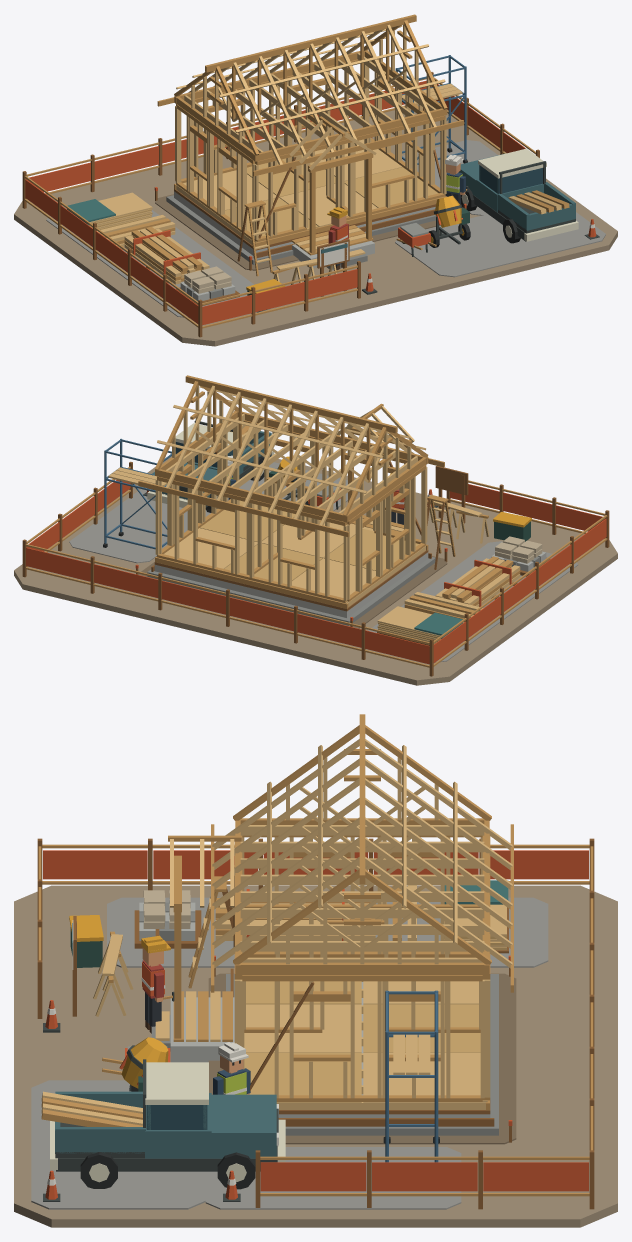
Rendered from house_construction_site.glb.
The picture shows the model from 3 angles, top to bottom: view 1: azimuth 30°, elevation 25°; view 2: azimuth 150°, elevation 25°; view 3: azimuth 270°, elevation 25°; orthographic projection. The views are drawn at different scales.
Parts seen in each view (by area): view 1: LotPad, SitePerimeter, Stage4_UpperFrameAndGables, Stage2_FloorDeck, Truck_Body, Stage5b_TrussesRight, Wall_Front, Wall_Left, Stage5a_TrussesLeft, Wall_InteriorAndPorch, Stage1_Foundation, Pile_LumberStack (+15 smaller); view 2: LotPad, SitePerimeter, Stage4_UpperFrameAndGables, Stage2_FloorDeck, Wall_Back, Stage5b_TrussesRight, Wall_Left, Stage1_Foundation, Stage5a_TrussesLeft, Wall_Right, Pile_LumberStack, Scaffold (+9 smaller); view 3: LotPad, SitePerimeter, Stage4_UpperFrameAndGables, Stage2_FloorDeck, Truck_Body, Stage5b_TrussesRight, Stage5a_TrussesLeft, Wall_Right, Stage1_Foundation, Wall_InteriorAndPorch, Scaffold, SiteProps (+12 smaller).
Boxes of the visible parts, x1,y1,x2,y2 form: LotPad: (14,104,617,346); SitePerimeter: (22,72,599,337); Stage4_UpperFrameAndGables: (174,14,447,161); Stage2_FloorDeck: (174,139,446,257); Truck_Body: (459,148,578,243); Stage5b_TrussesRight: (157,24,463,176); Wall_Front: (254,115,446,241); Wall_Left: (175,104,254,239); Stage5a_TrussesLeft: (188,43,358,164); Wall_InteriorAndPorch: (258,84,440,253); Stage1_Foundation: (166,191,435,269); Pile_LumberStack: (124,226,209,284); LotPad: (14,456,617,685); SitePerimeter: (22,461,609,676); Stage4_UpperFrameAndGables: (155,375,428,522); Stage2_FloorDeck: (154,500,428,611); Wall_Back: (155,476,347,602); Stage5b_TrussesRight: (138,385,444,537); Wall_Left: (347,465,426,601); Stage1_Foundation: (147,552,435,625); Stage5a_TrussesLeft: (242,404,413,525); Wall_Right: (156,425,238,553); Pile_LumberStack: (435,556,520,606); Scaffold: (103,438,171,556); LotPad: (14,885,617,1227); SitePerimeter: (37,838,594,1209); Stage4_UpperFrameAndGables: (233,714,491,975); Stage2_FloorDeck: (155,981,490,1114); Truck_Body: (50,1059,285,1189); Stage5b_TrussesRight: (211,745,513,992); Stage5a_TrussesLeft: (212,739,512,909); Wall_Right: (240,975,484,1101); Stage1_Foundation: (151,968,498,1135); Wall_InteriorAndPorch: (173,855,482,1090); Scaffold: (383,990,439,1162); SiteProps: (69,915,512,1142).
Size of the model in its own units: 13.6 by 5.2 by 10.4.
